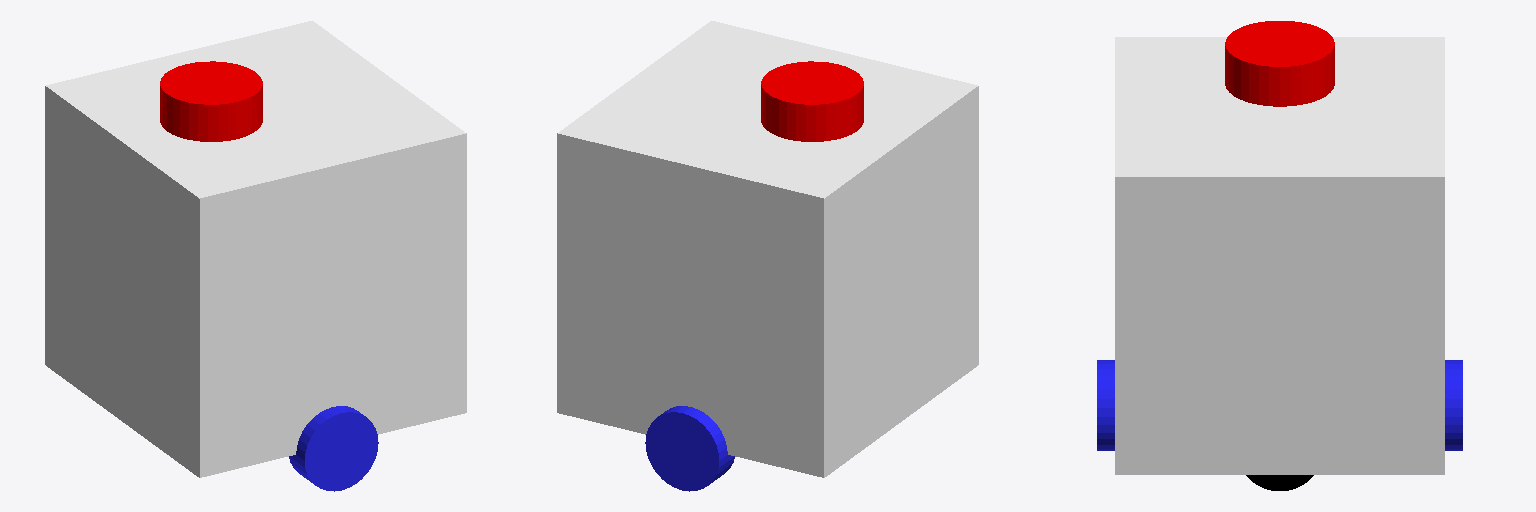
robot.urdf — agni_bot:
<?xml version="1.0" ?>
<robot name="agni_bot">

  <material name="white">
      <color rgba="1 1 1 1"/>
  </material>

  <material name="orange">
      <color rgba="1 0.3 0.1 1"/>
  </material>

  <material name="blue">
      <color rgba="0.2 0.2 1 1"/>
  </material>

  <material name="black">
      <color rgba="0 0 0 1"/>
  </material>

  <material name="red">
      <color rgba="1 0 0 1"/>
  </material>

<!--/////////////////////////// base link //////////////////////// -->
  <link name="base_link">
    
  </link>
<!--/////////////////////////// body link //////////////////////// -->

  <joint name="body_joint" type="fixed">
    <parent link="base_link"/>
    <child link="body_link"/>
    <origin xyz="-0.15 0.0 0.0" rpy="0.0 0.0 0.0"/>
  </joint>

  <link name="body_link">
    <visual>
    <origin xyz="0.15 0.0 0.15" rpy="0.0 0.0 0.0"/>
      <geometry>
        <box size="0.3 0.3 0.3"/>
      </geometry>
      <material name="white"/>
    </visual>

    <collision>
    <origin xyz="0.15 0.0 0.15" rpy="0.0 0.0 0.0"/>
      <geometry>
        <box size="0.3 0.3 0.3"/>
      </geometry>
    </collision>

    <inertial>
      <origin xyz="0 0 0" rpy="0 0 0" />
      <mass value="1.5" />
      <inertia ixx="0.079945" ixy="0.00012078" ixz="0.00015606" iyy="0.068406" iyz="-0.0049053" izz="0.12343" />
    </inertial>
  </link>
 <gazebo reference="body_link">
    <material>Gazebo/White</material>
</gazebo>

<!--/////////////////////////// left wheel link //////////////////////// -->
 <joint name="left_wheel_joint" type="continuous">
 <parent link="body_link"/>
 <child link="left_wheel"/>
 <origin xyz="0.15 0.15 0.0" rpy="-1.57 0.0 0.0"/>
 <axis xyz="0.0 0.0 -1"/>
  
 </joint>

 <link name="left_wheel">
  <visual>
    <geometry>
      <cylinder radius="0.0415" length="0.033"/>
    </geometry>
    <material name="blue"/>
  </visual>
  
  <collision>
    <geometry>
      <cylinder radius="0.0415" length="0.033"/>
    </geometry>
  </collision>

     <inertial>
      <origin xyz="0.0 0.0 0.0" rpy="0 0 0" />
      <mass value="0.50917" />
      <inertia ixx="0.0012185" ixy="1.8059E-20" ixz="3.0427E-20" iyy="0.0012185" iyz="-4.0491E-20" izz="0.0022928" />
    </inertial>

 </link>
 <gazebo reference="left_wheel">
    <material>Gazebo/Blue</material>
</gazebo>

 <!--/////////////////////////// right wheel link //////////////////////// -->
 <joint name="right_wheel_joint" type="continuous">
 <parent link="body_link"/>
 <child link="right_wheel"/>
 <origin xyz="0.15 -0.15 0.0" rpy="1.57 0.0 0.0"/>
 <axis xyz="0.0 0.0 1"/>
  
 </joint>

 <link name="right_wheel">
  <visual>
    <geometry>
      <cylinder radius="0.0415" length="0.033"/>
    </geometry>
    <material name="blue"/>
  </visual>

   <collision>
    <geometry>
      <cylinder radius="0.0415" length="0.033"/>
    </geometry>
  </collision>

   <inertial>
      <origin xyz="0.0 0.0 0.0" rpy="0 0 0" />
      <mass value="0.50917" />
      <inertia ixx="0.0012185" ixy="1.8059E-20" ixz="3.0427E-20" iyy="0.0012185" iyz="-4.0491E-20" izz="0.0022928" />
    </inertial>
  
 </link>
 <gazebo reference="right_wheel">
    <material>Gazebo/Blue</material>
</gazebo> 

  <!--/////////////////////////// f_caster wheel link //////////////////////// -->
 <joint name="f_caster_wheel_joint" type="fixed">
 <parent link="body_link"/>
 <child link="f_caster_wheel"/>
 <origin xyz="0.24 0.0 0.0" rpy="0.0 0.0 0.0"/>
 </joint>

 <link name="f_caster_wheel">
  <visual>
    <geometry>
      <sphere radius="0.04"/>
    </geometry>
    <material name="black"/>
  </visual>

  <collision>
    <geometry>
      <sphere radius="0.04"/>
    </geometry>
  </collision>

  <inertial>
      <origin xyz="0.0 0.0 0.0" rpy="0 0 0" />
      <mass value="0.50917" />
      <inertia ixx="0.0012185" ixy="1.8059E-20" ixz="3.0427E-20" iyy="0.0012185" iyz="-4.0491E-20" izz="0.0022928" />
    </inertial>
 </link>
 
  <gazebo reference="f_caster_wheel">
    <material>Gazebo/Black</material>
    <mu1 value="0.001"/>
    <mu2 value="0.001"/>
</gazebo>

   <!--/////////////////////////// r_caster wheel link //////////////////////// -->
 <joint name="r_caster_wheel_joint" type="fixed">
 <parent link="body_link"/>
 <child link="r_caster_wheel"/>
 <origin xyz="0.06 0.0 0.0" rpy="0.0 0.0 0.0"/>
 </joint>

 <link name="r_caster_wheel">
  <visual>
    <geometry>
      <sphere radius="0.04"/>
    </geometry>
    <material name="black"/>
  </visual>

  <collision>
    <geometry>
      <sphere radius="0.04"/>
    </geometry>
  </collision>


 <inertial>
      <origin xyz="0.0 0.0 0.0" rpy="0 0 0" />
      <mass value="0.50917" />
      <inertia ixx="0.0012185" ixy="1.8059E-20" ixz="3.0427E-20" iyy="0.0012185" iyz="-4.0491E-20" izz="0.0022928" />
    </inertial>
 </link>

   <gazebo reference="r_caster_wheel">
    <material>Gazebo/Black</material>
    <mu1 value="0.001"/>
    <mu2 value="0.001"/>
</gazebo>

<!--/////////////////////////// lidar link //////////////////////// -->

<joint name="lidar_joint" type="fixed">
        <parent link="body_link"/>
        <child link="lidar_link"/>
        <origin xyz="0.1 0 0.32" rpy="0 0 0"/>
    </joint>

    <link name="lidar_link">
        <visual>
            <geometry>
                <cylinder radius="0.05" length="0.04"/>
            </geometry>
            <material name="red"/>
        </visual>

        <collision>
            <geometry>
                <cylinder radius="0.05" length="0.04"/>
            </geometry>
        </collision>
        <inertial>
            <mass value="0.5" />
            <inertia ixx="0.01" ixy="0.0" ixz="0" iyy="0.01" iyz="0" izz="0.01" />
    </inertial>
    </link>
    <gazebo reference="lidar_link">
    <material>Gazebo/Red</material>
</gazebo> 


 <!--/////////////////////////// controller plugin //////////////////////// -->

<gazebo>
      <plugin filename="libgazebo_ros_diff_drive.so" name="agni_bot_controller">
        <odometry_frame>odom</odometry_frame>
        <commandTopic>cmd_vel</commandTopic>
        <publish_odom>true</publish_odom>
        <publish_odom_tf>true</publish_odom_tf>
        <update_rate>15.0</update_rate>
        <left_joint>left_wheel_joint</left_joint>
        <right_joint>right_wheel_joint</right_joint>
        <wheel_separation>0.3</wheel_separation>
        <wheel_diameter>0.083</wheel_diameter>
        <max_wheel_acceleration>2</max_wheel_acceleration>
        <robotBaseFrame>base_link</robotBaseFrame>

      </plugin>
    </gazebo>

    <!--/////////////////////////// Lidar plugin //////////////////////// -->

  <gazebo reference="lidar_link">
        <material>Gazebo/Red</material>

 <sensor name="VRB_lidar" type="ray">
 <pose> 0 0 0 0 0 0 </pose>
    <visualize>true</visualize>
    <update_rate>12.0</update_rate>
    <plugin filename="libgazebo_ros_ray_sensor.so" name="lidar_plugin">
    <ros>
      <remapping>~/out:=scan</remapping>
    </ros>
    <output_type>sensor_msgs/LaserScan</output_type>
    <frame_name>lidar_link</frame_name>
    </plugin>
    <ray>
      <scan>
        <horizontal>
          <samples>360</samples>
          <resolution>1</resolution>
          <min_angle>-3.14</min_angle>
          <max_angle>3.14</max_angle>

        </horizontal>
      </scan>
      <range>
        <min>0.3</min>
        <max>2</max>
        <resolution>0.015</resolution>
      </range>
      <noise>
        <type>gaussian</type>
        <mean>0.0</mean>
        <stddev>0.01</stddev>
      </noise>
    </ray>
  </sensor>
</gazebo>



</robot>

--- What the picture shows (computed from the rendered views, not written in the file) ---
The picture shows the robot from 3 angles, left to right: view 1: azimuth 30°, elevation 25°; view 2: azimuth 150°, elevation 25°; view 3: azimuth 270°, elevation 25°; orthographic projection.
Robot: agni_bot — 7 links, 6 joints (2 continuous, 4 fixed); root link base_link; default pose: all joints at 0.
Links seen in each view (by area): view 1: body_link, lidar_link, right_wheel; view 2: body_link, lidar_link, left_wheel; view 3: body_link, lidar_link, left_wheel, right_wheel, f_caster_wheel.
Link boxes in pixels (box(x1,y1,x2,y2)): body_link: box(45, 21, 466, 477); lidar_link: box(160, 61, 262, 141); right_wheel: box(289, 406, 378, 491); body_link: box(557, 21, 978, 477); lidar_link: box(761, 61, 863, 141); left_wheel: box(645, 406, 734, 491); body_link: box(1115, 37, 1444, 474); lidar_link: box(1225, 21, 1334, 106); left_wheel: box(1445, 360, 1462, 450); right_wheel: box(1097, 360, 1114, 450); f_caster_wheel: box(1246, 475, 1313, 490).
Bounding box of the posed robot: 0.3 × 0.3331 × 0.3815 m (x, y, z).
Geometry: primitives only (box / cylinder / sphere), no mesh files.
